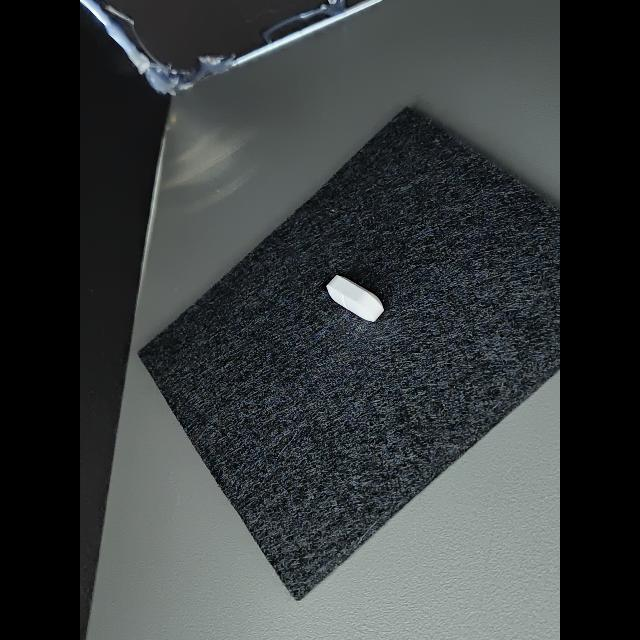Intact Pill: (326, 275, 384, 322)
